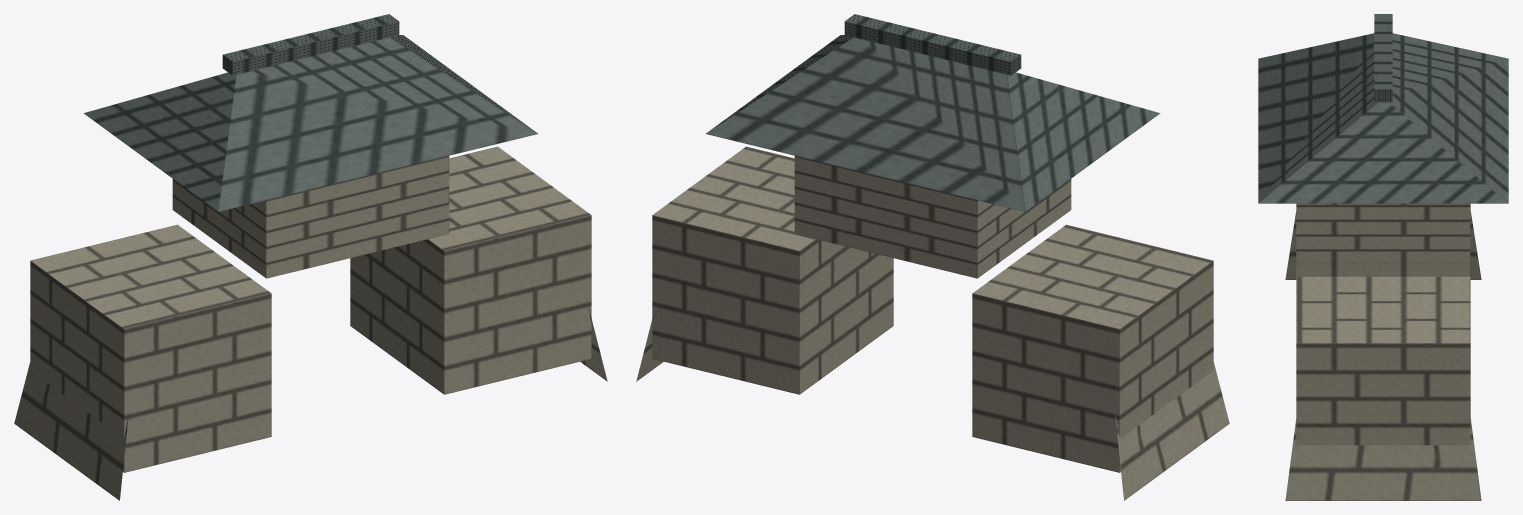
File: gate-lod2.glb
The picture shows the model from 3 angles, left to right: view 1: azimuth 30°, elevation 25°; view 2: azimuth 150°, elevation 25°; view 3: azimuth 270°, elevation 25°; orthographic projection. The views are drawn at different scales.
Bounding box in the file's own units: 0.96 × 0.686 × 0.46.
Materials: 1 (1 with a texture image).
